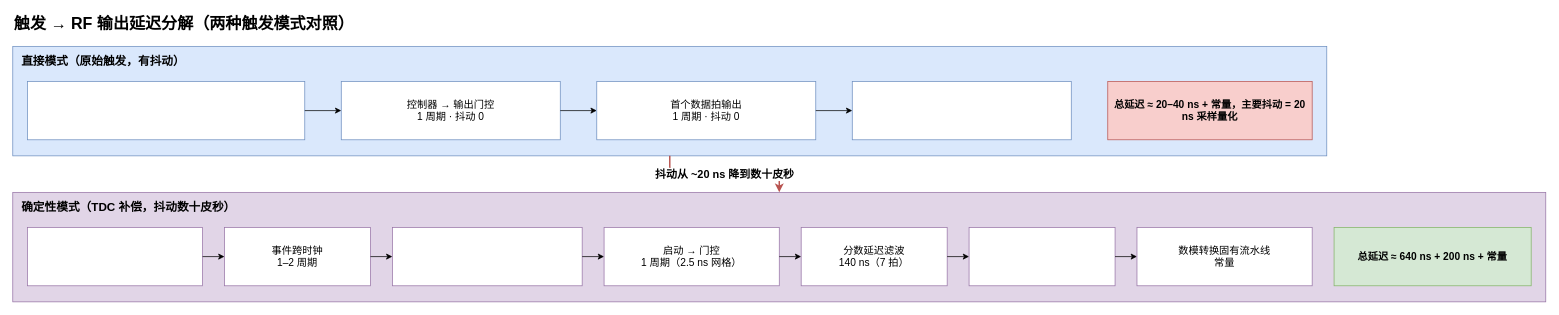
Some shapes in this 1559 by 315 pixel diagram are drawn without their labels. Each missing label, with the centre of its shape:
"TDC 精密测时 ≈ 25 ns" belongs at pixel 115 256.
"数模转换固有流水线 常量 · 抖动 0" belongs at pixel 961 110.
"相位旋转 60 ns（3 拍）" belongs at pixel 1041 256.
"触发信号采样 延迟 0–20 ns（抖动 ±20 ns）" belongs at pixel 166 110.
"调度等待 ≈ 640 ns（固定）" belongs at pixel 487 256.
